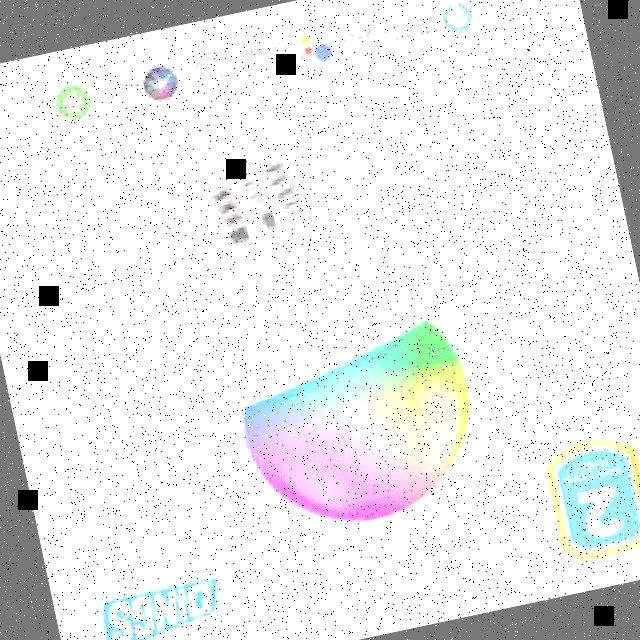light_bulb: (157, 115, 507, 561)
